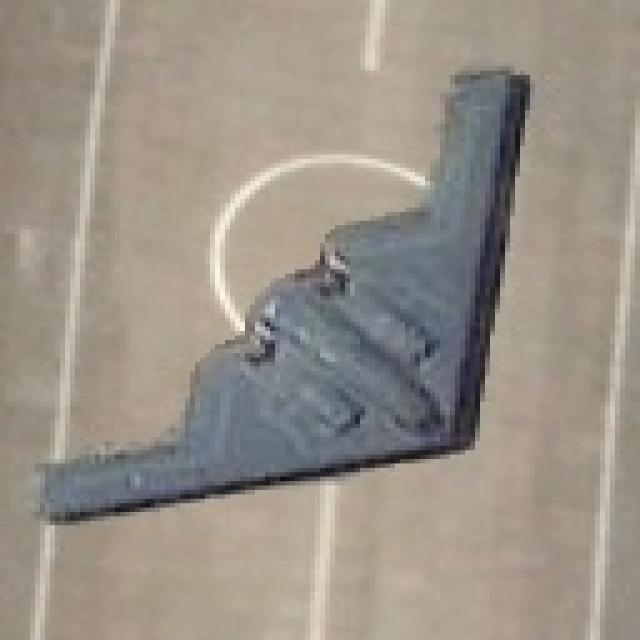B-2_TopDown: (30, 58, 535, 526)
